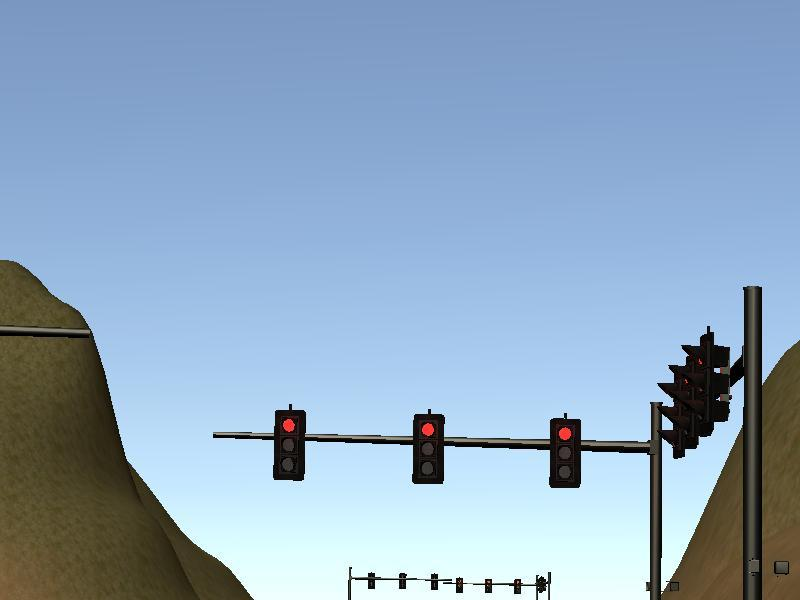Red: (551, 419, 581, 487), (276, 410, 305, 479), (415, 415, 444, 483)
